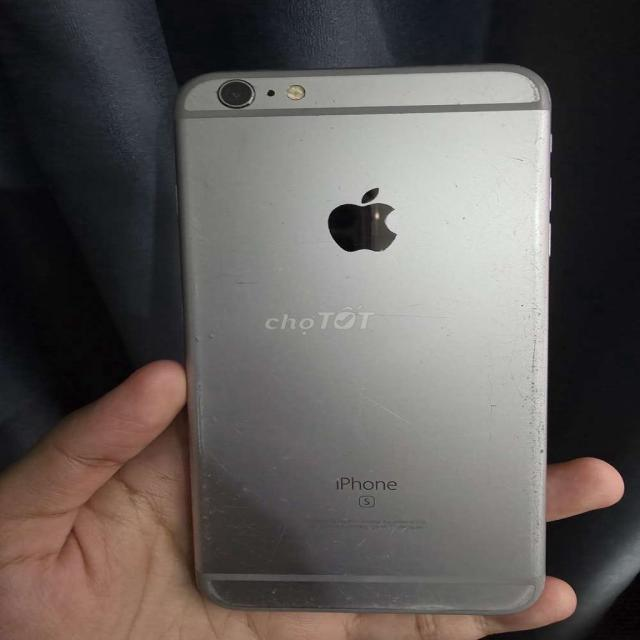gen_6: (175, 65, 550, 614)
scratch: (224, 463, 461, 559), (179, 307, 225, 605), (252, 584, 518, 621), (529, 123, 549, 580), (356, 388, 425, 430), (504, 63, 557, 116), (475, 373, 523, 429)
